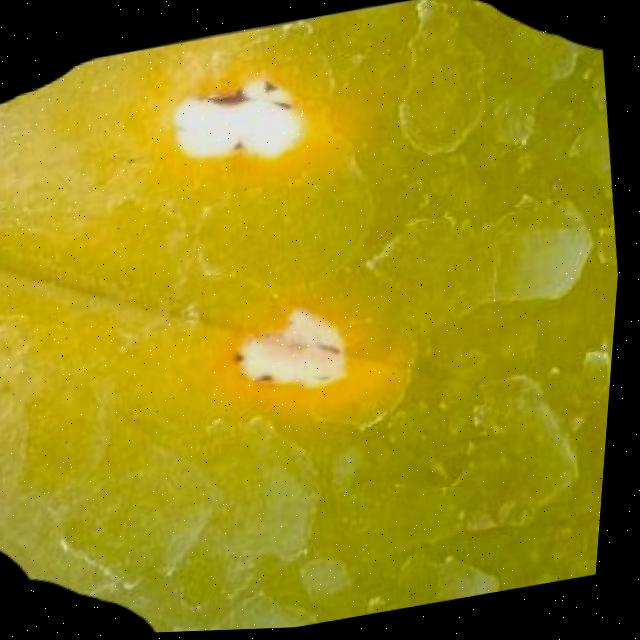mite: (0, 512, 176, 639), (0, 536, 45, 639), (579, 349, 619, 409), (262, 374, 285, 391), (239, 352, 254, 370)
